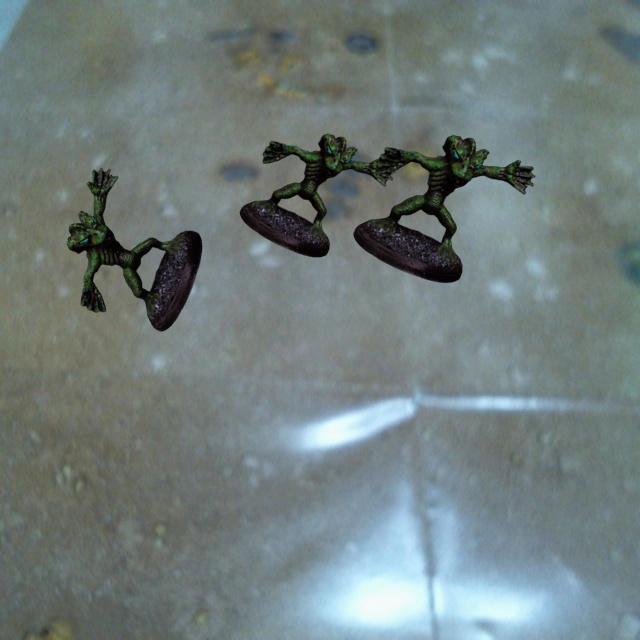pieza_juego: (353, 135, 535, 282), (67, 168, 201, 331), (240, 133, 394, 257)
